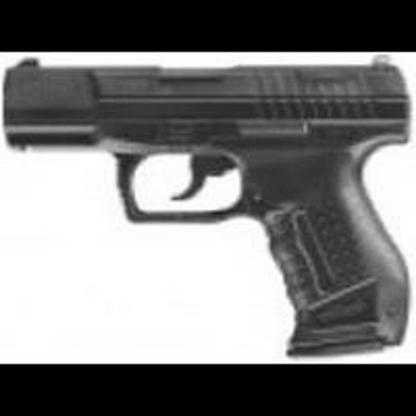weapon: (2, 55, 412, 359)
